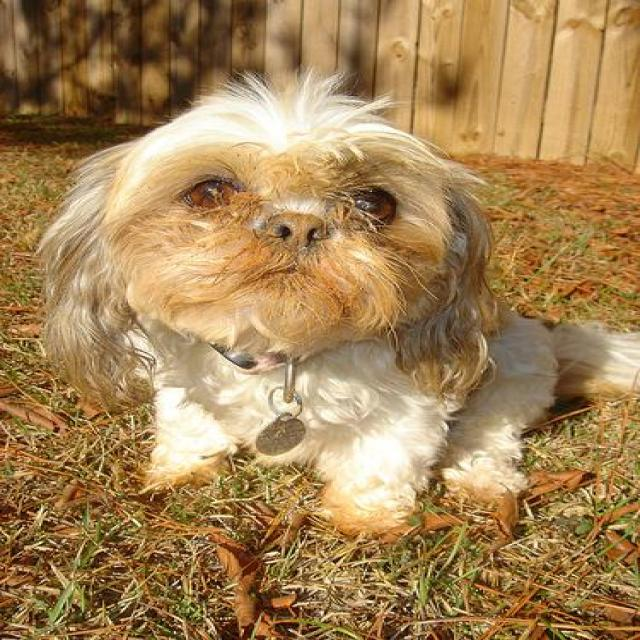sitting: (34, 66, 640, 534)
